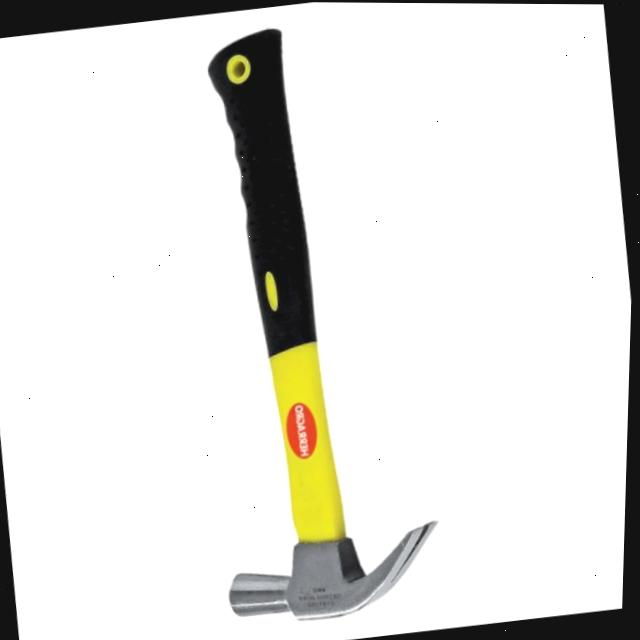hammer: (154, 2, 469, 638)
